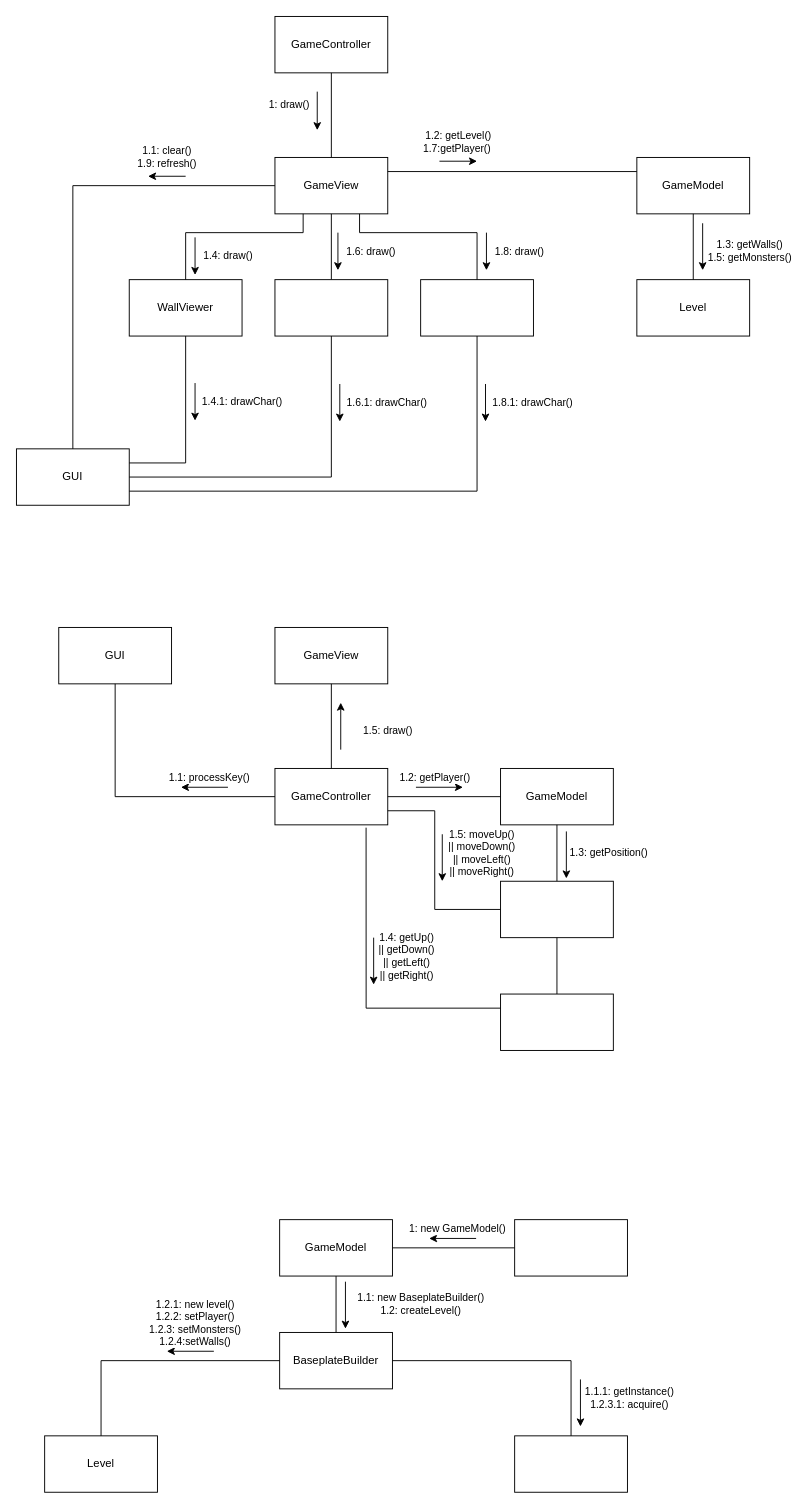
The diagram is 807 pixels wide and 1509 high, and some of its shapes have lost their labels. The shapes that lost their labels are listed below. From the top down, each one's centre as x and y in pixels, then its label:
At [331,307]: "MonsterViewer".
At [476,307]: "PlayerViewer".
At [556,909]: "Player".
At [556,1021]: "Position".
At [570,1247]: "Ascent.Game".
At [570,1463]: "MonsterPool".
